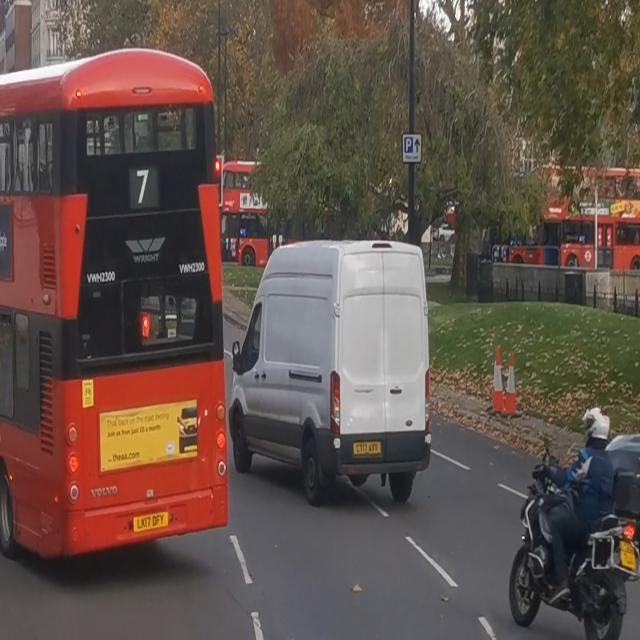Car: (0, 50, 216, 573), (230, 241, 431, 505)
